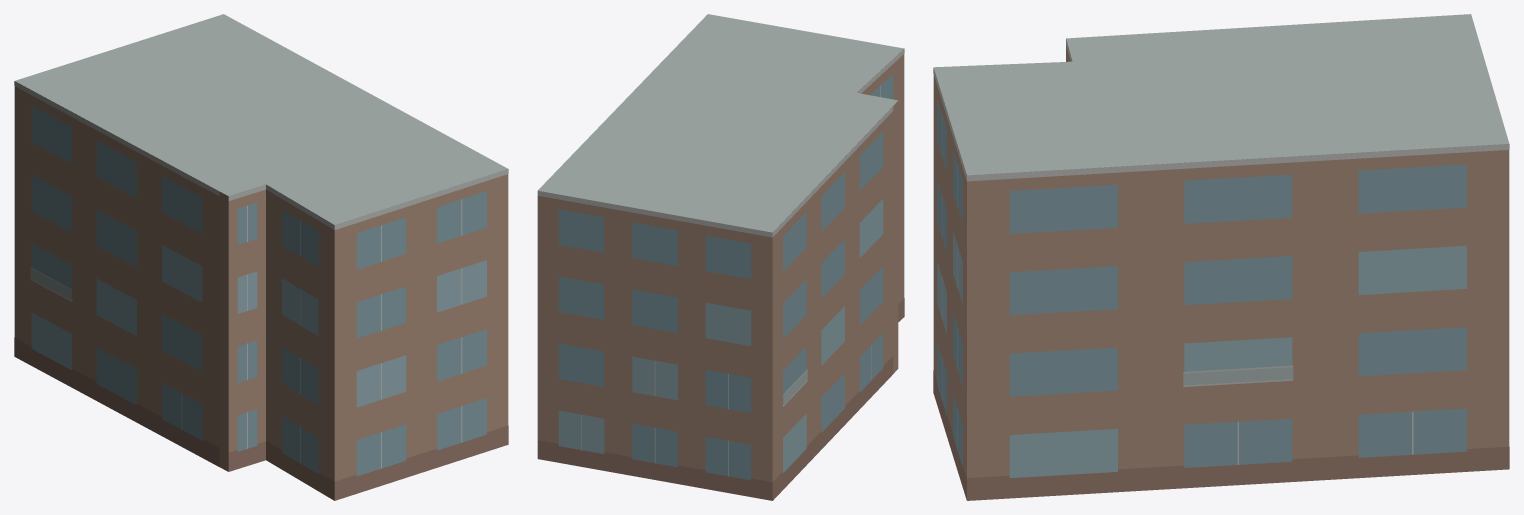
The model's file is survey-upis-32866242.glb.
The picture shows the model from 3 angles, left to right: view 1: azimuth 30°, elevation 25°; view 2: azimuth 150°, elevation 25°; view 3: azimuth 270°, elevation 25°; orthographic projection. The views are drawn at different scales.
Parts seen in each view (by area): view 1: survey-upis-32866242.tmp; view 2: survey-upis-32866242.tmp; view 3: survey-upis-32866242.tmp.
Boxes of the visible parts, x1=… form: survey-upis-32866242.tmp: x1=14, y1=14, x2=508, y2=500; survey-upis-32866242.tmp: x1=537, y1=14, x2=904, y2=500; survey-upis-32866242.tmp: x1=933, y1=14, x2=1509, y2=500.
Size of the model in its own units: 14.05 by 13.2 by 21.18.
